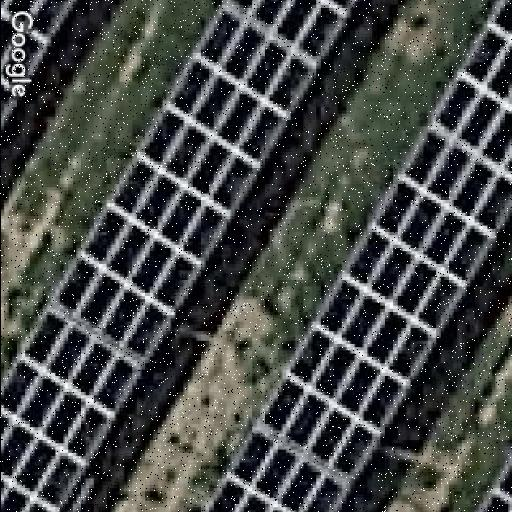solar-panel: (0, 0, 362, 512), (189, 0, 512, 512), (0, 0, 75, 133), (467, 451, 512, 512)
